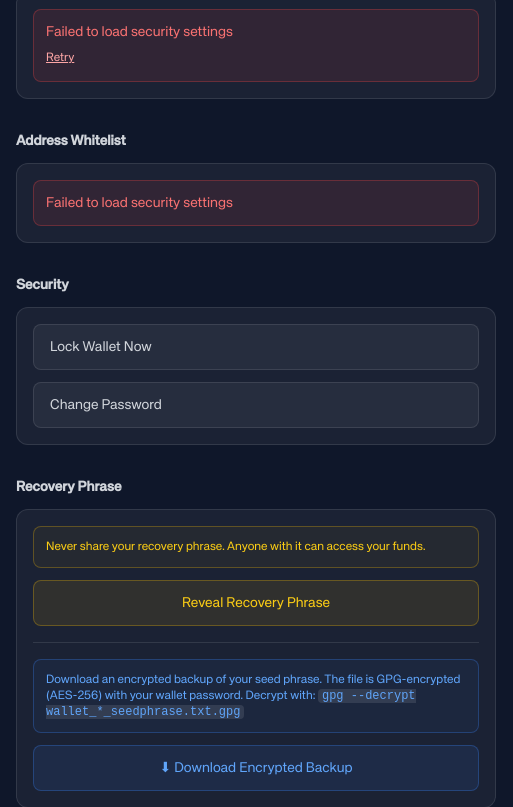
Test: E2E: Settings Flow › Password Change Flow › should show error on wrong current password
(page scrolled)
Click the button "Change Password". click: (106, 405)
box: [33, 382, 479, 428]
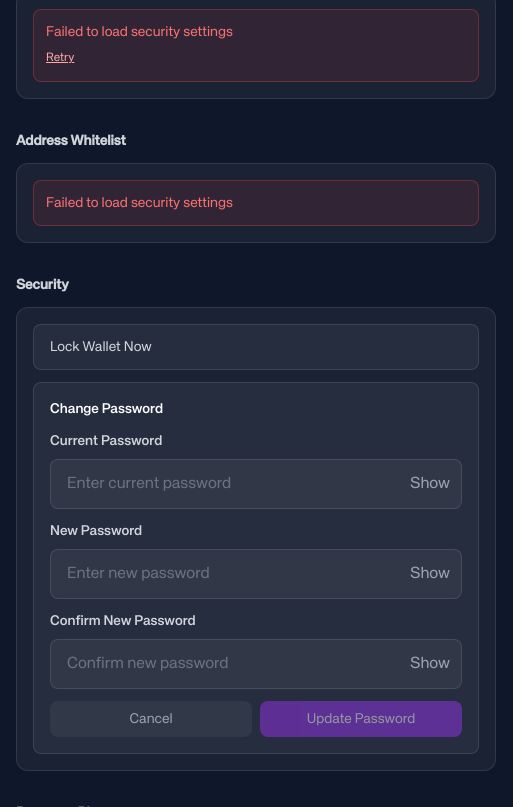
Type "WrongPass" into the password field with placeholder "Enter current password". click: (256, 484)
box: [50, 459, 462, 509]
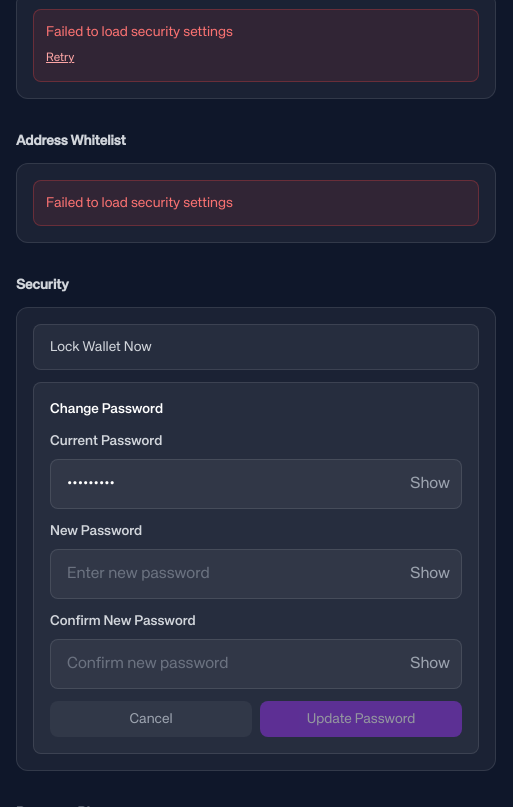
Type "NewStr0ng!Pass456" into the password field with placeholder "Enter new password". click: (256, 574)
box: [50, 549, 462, 599]
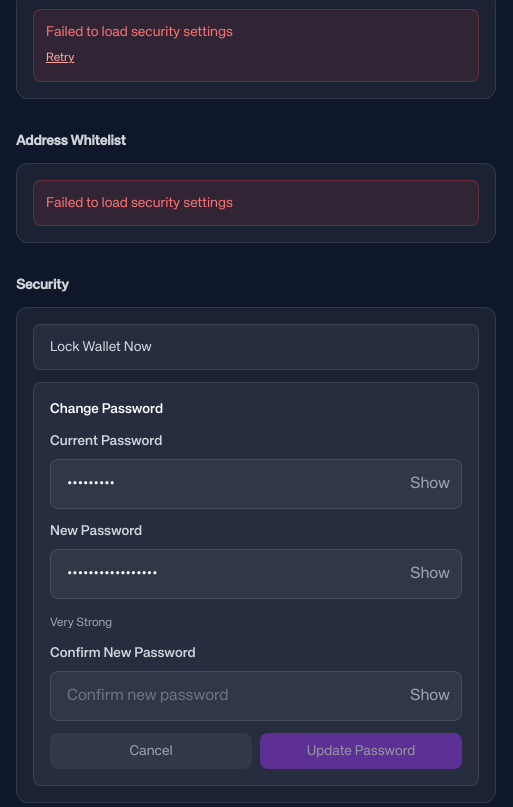
Type "NewStr0ng!Pass456" into the password field with placeholder "Confirm New Password". click: (256, 696)
box: [50, 671, 462, 721]
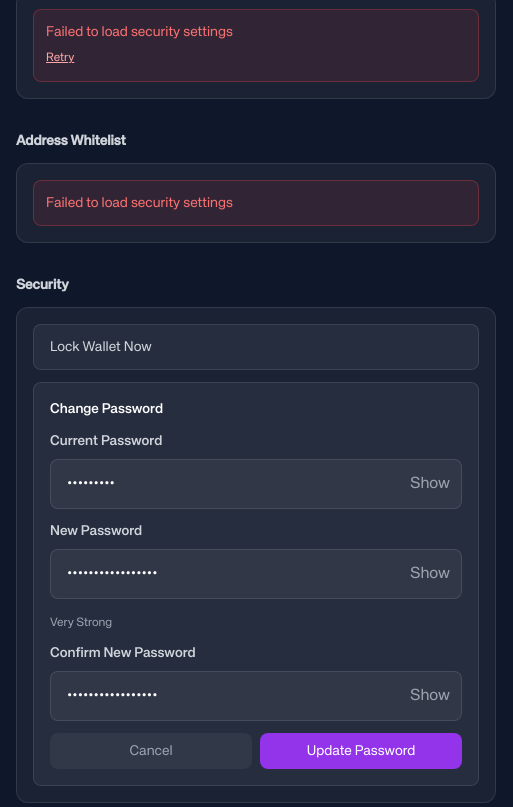
Click the button "Update Password". click: (361, 751)
box: [260, 733, 462, 769]
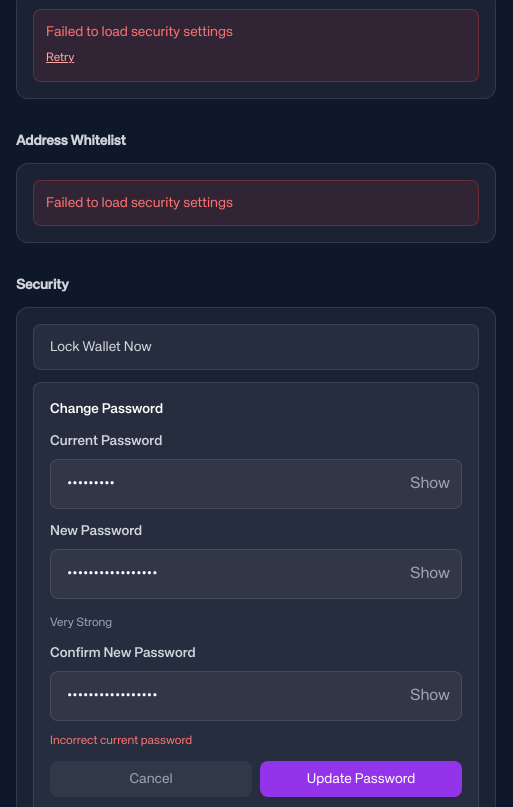
Check: the text "Incorrect current password" is shown, box [50, 735, 192, 747]
